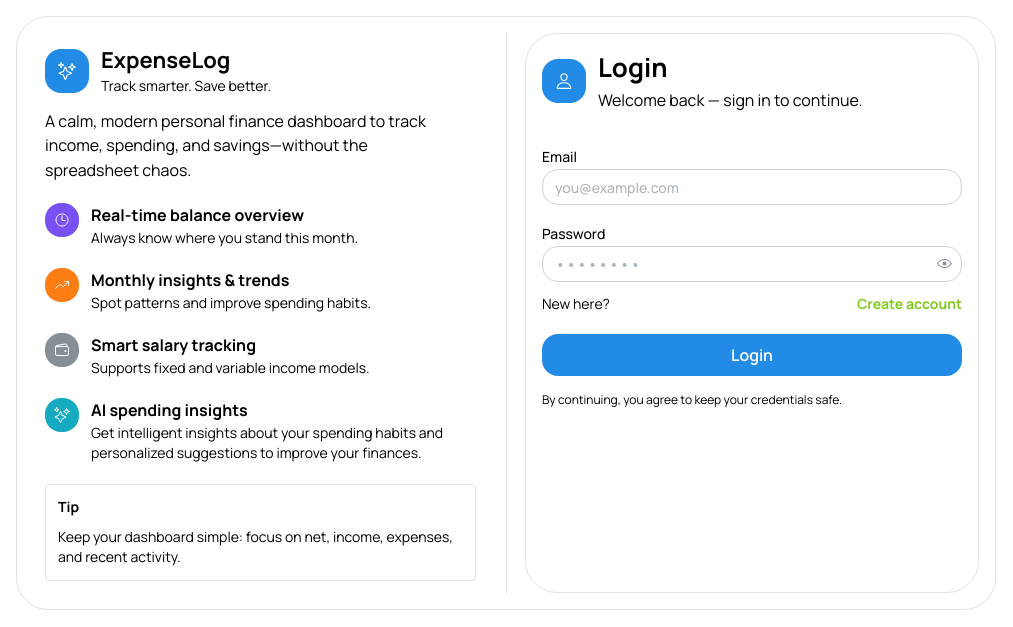
Test case: LoginPage › shows client-side validation for an invalid email before submit
This screenshot has width=1013, height=627.
Type "not-an-email" into the field with placeholder "you@example.com". click: (752, 187)
box: top-left (542, 169), bottom-right (962, 205)
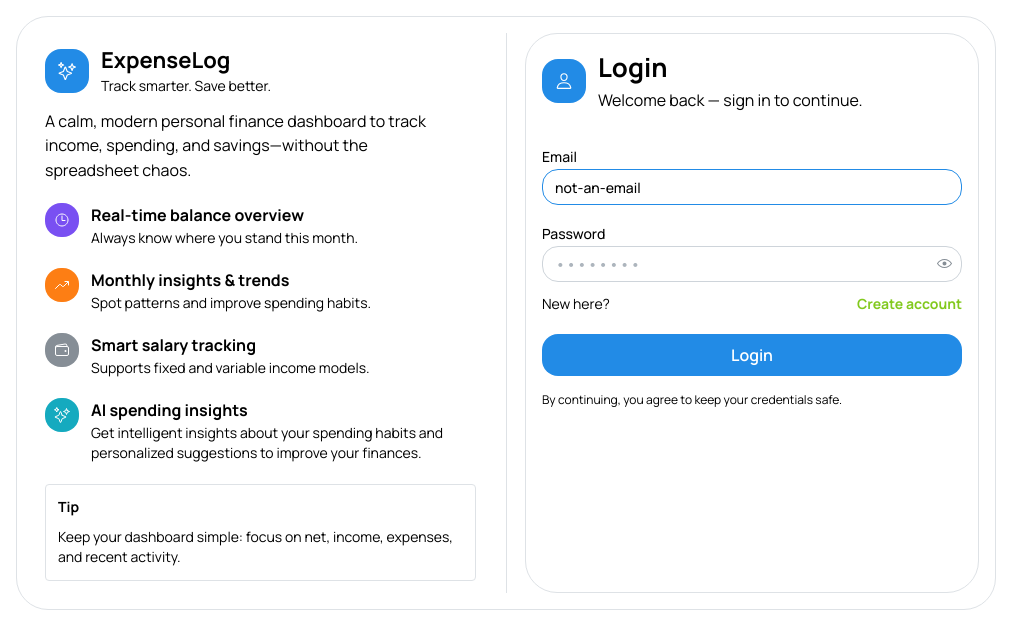
Type "password123" into the password field with placeholder "••••••••". click: (752, 264)
box: top-left (543, 247), bottom-right (961, 281)
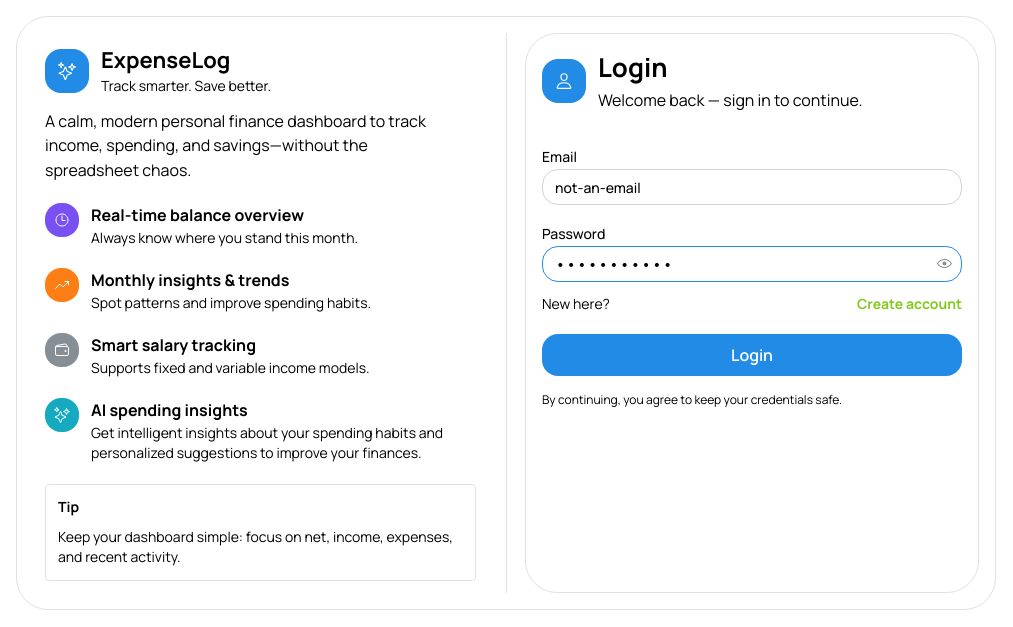
Click the button "Login". click: (752, 355)
box: top-left (542, 334), bottom-right (962, 376)
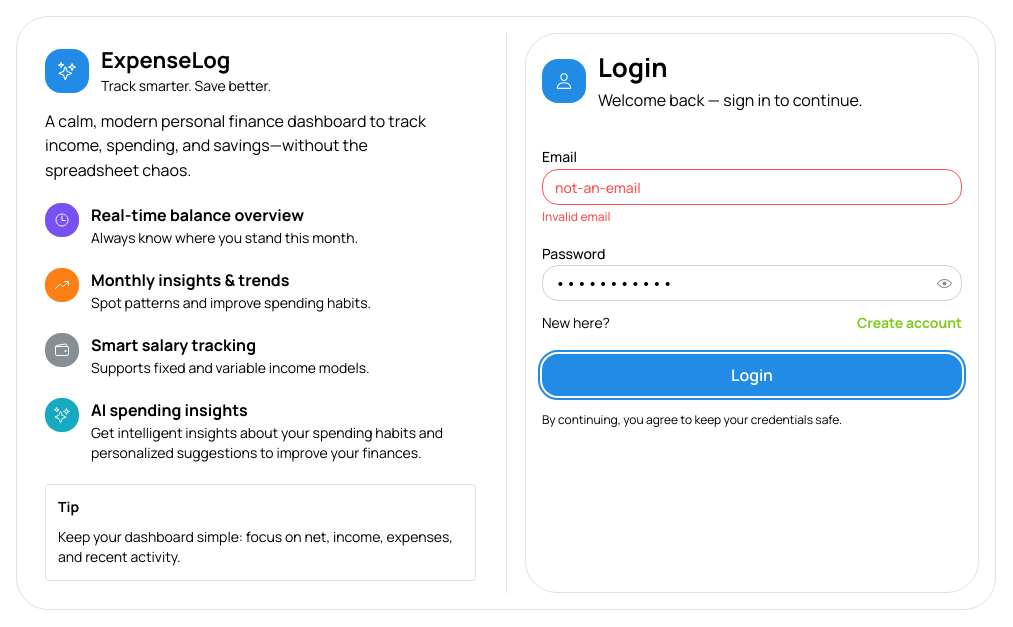
Check: the text "Invalid email" is shown, box top-left (542, 208), bottom-right (610, 225)
